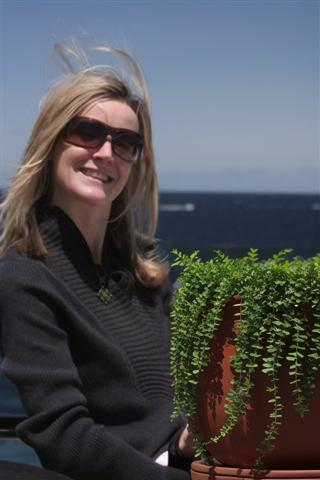person: (5, 72, 297, 480)
pottedplant: (168, 247, 320, 480)
